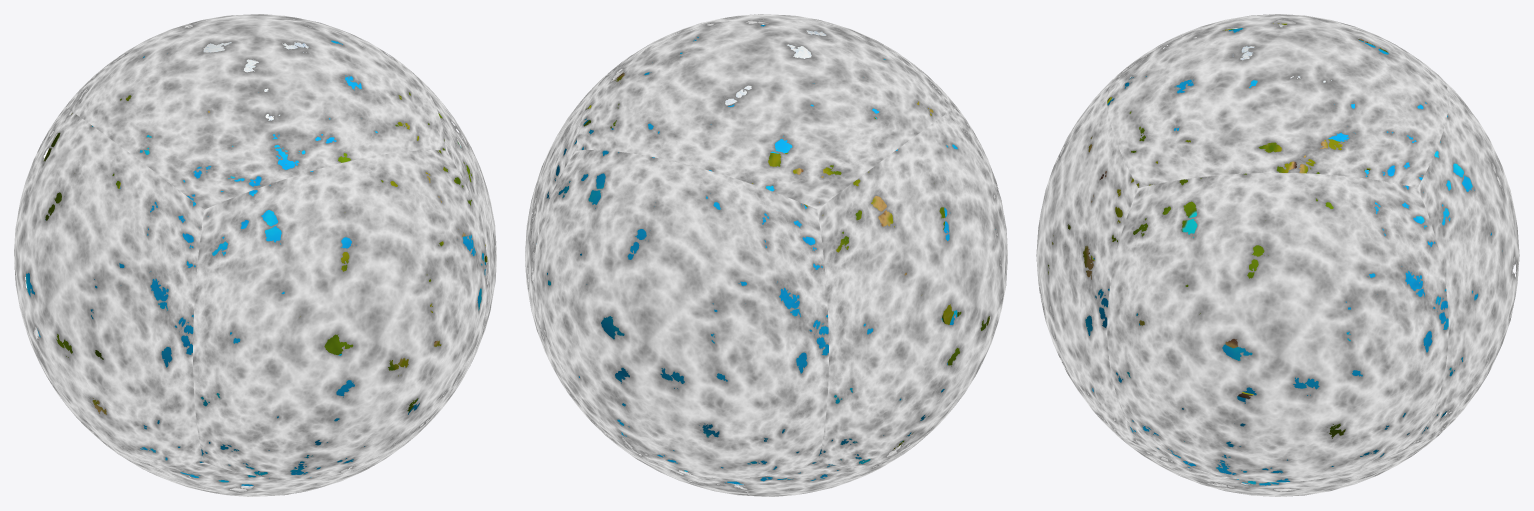
File: LITTLE-EARTH.c4d.fbx
The picture shows the model from 3 angles, left to right: view 1: azimuth 30°, elevation 25°; view 2: azimuth 150°, elevation 25°; view 3: azimuth 270°, elevation 25°; orthographic projection.
Visible parts, largest first — view 1: Clouds_2, Ocean, CONT_Extrude; view 2: Clouds_2, Ocean, CONT_Extrude; view 3: Clouds_2, Ocean, CONT_Extrude.
Part boxes in pixels (<box>): Clouds_2: <box>14,14,496,496</box>; Ocean: <box>26,40,485,486</box>; CONT_Extrude: <box>43,92,487,414</box>; Clouds_2: <box>525,14,1007,496</box>; Ocean: <box>547,25,995,484</box>; CONT_Extrude: <box>584,72,989,449</box>; Clouds_2: <box>1036,14,1519,496</box>; Ocean: <box>1085,28,1491,485</box>; CONT_Extrude: <box>1048,23,1387,438</box>.
Bounding box in the file's own units: 1040 × 1040 × 1040.
Materials: 4 (3 with a texture image).
